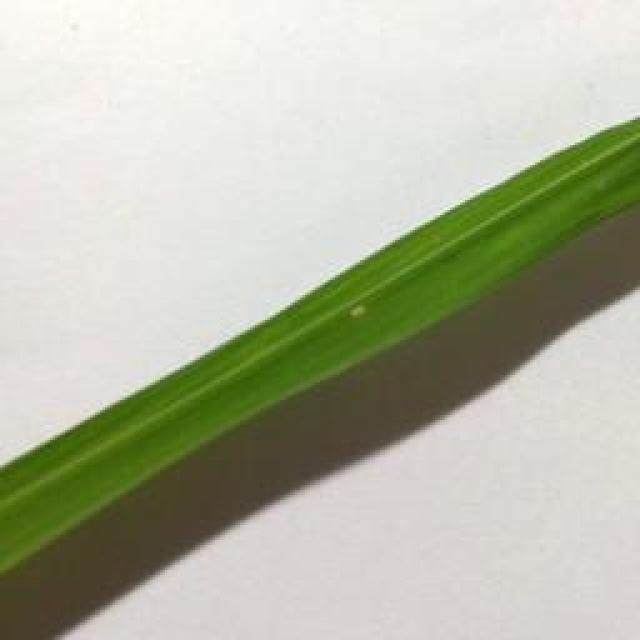Healthy-Plant: (0, 274, 344, 577), (375, 118, 640, 362)
